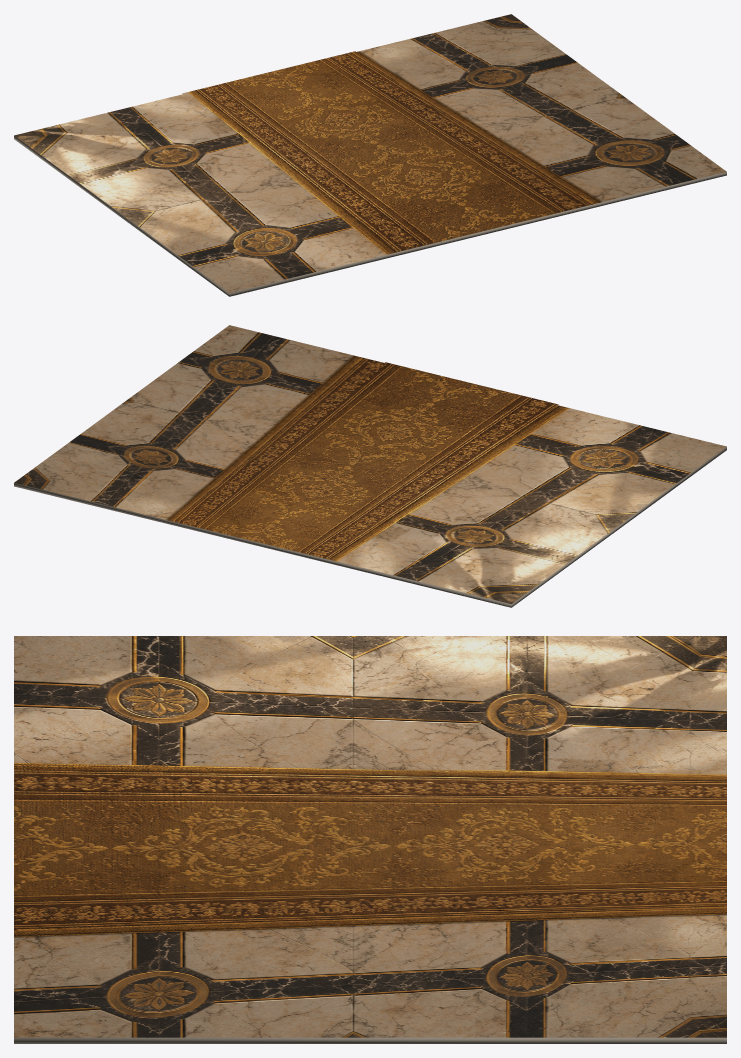
File: museum_floor_gold_carpet.glb
3 views of the same model, one above another, from view 1: azimuth 30°, elevation 25°; view 2: azimuth 150°, elevation 25°; view 3: azimuth 270°, elevation 25° (orthographic). The views are drawn at different scales.
Visible parts, largest first — view 1: MuseumFloor, GoldenCarpet, FloorSlab; view 2: MuseumFloor, GoldenCarpet, FloorSlab; view 3: MuseumFloor, GoldenCarpet, FloorSlab.
Part boxes in pixels (x1,y1,x2,y2): MuseumFloor: (14,14,726,292); GoldenCarpet: (182,51,570,250); FloorSlab: (14,136,726,296); MuseumFloor: (14,325,726,603); GoldenCarpet: (170,362,558,561); FloorSlab: (14,447,726,607); MuseumFloor: (14,636,726,1037); GoldenCarpet: (14,770,726,909); FloorSlab: (14,1037,726,1043).
Size of the model in its own units: 12 by 0.108 by 9.
Materials: 3 (2 with a texture image).
